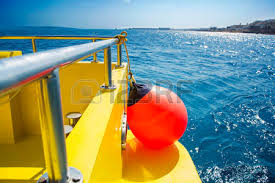buoy: (124, 85, 189, 152)
